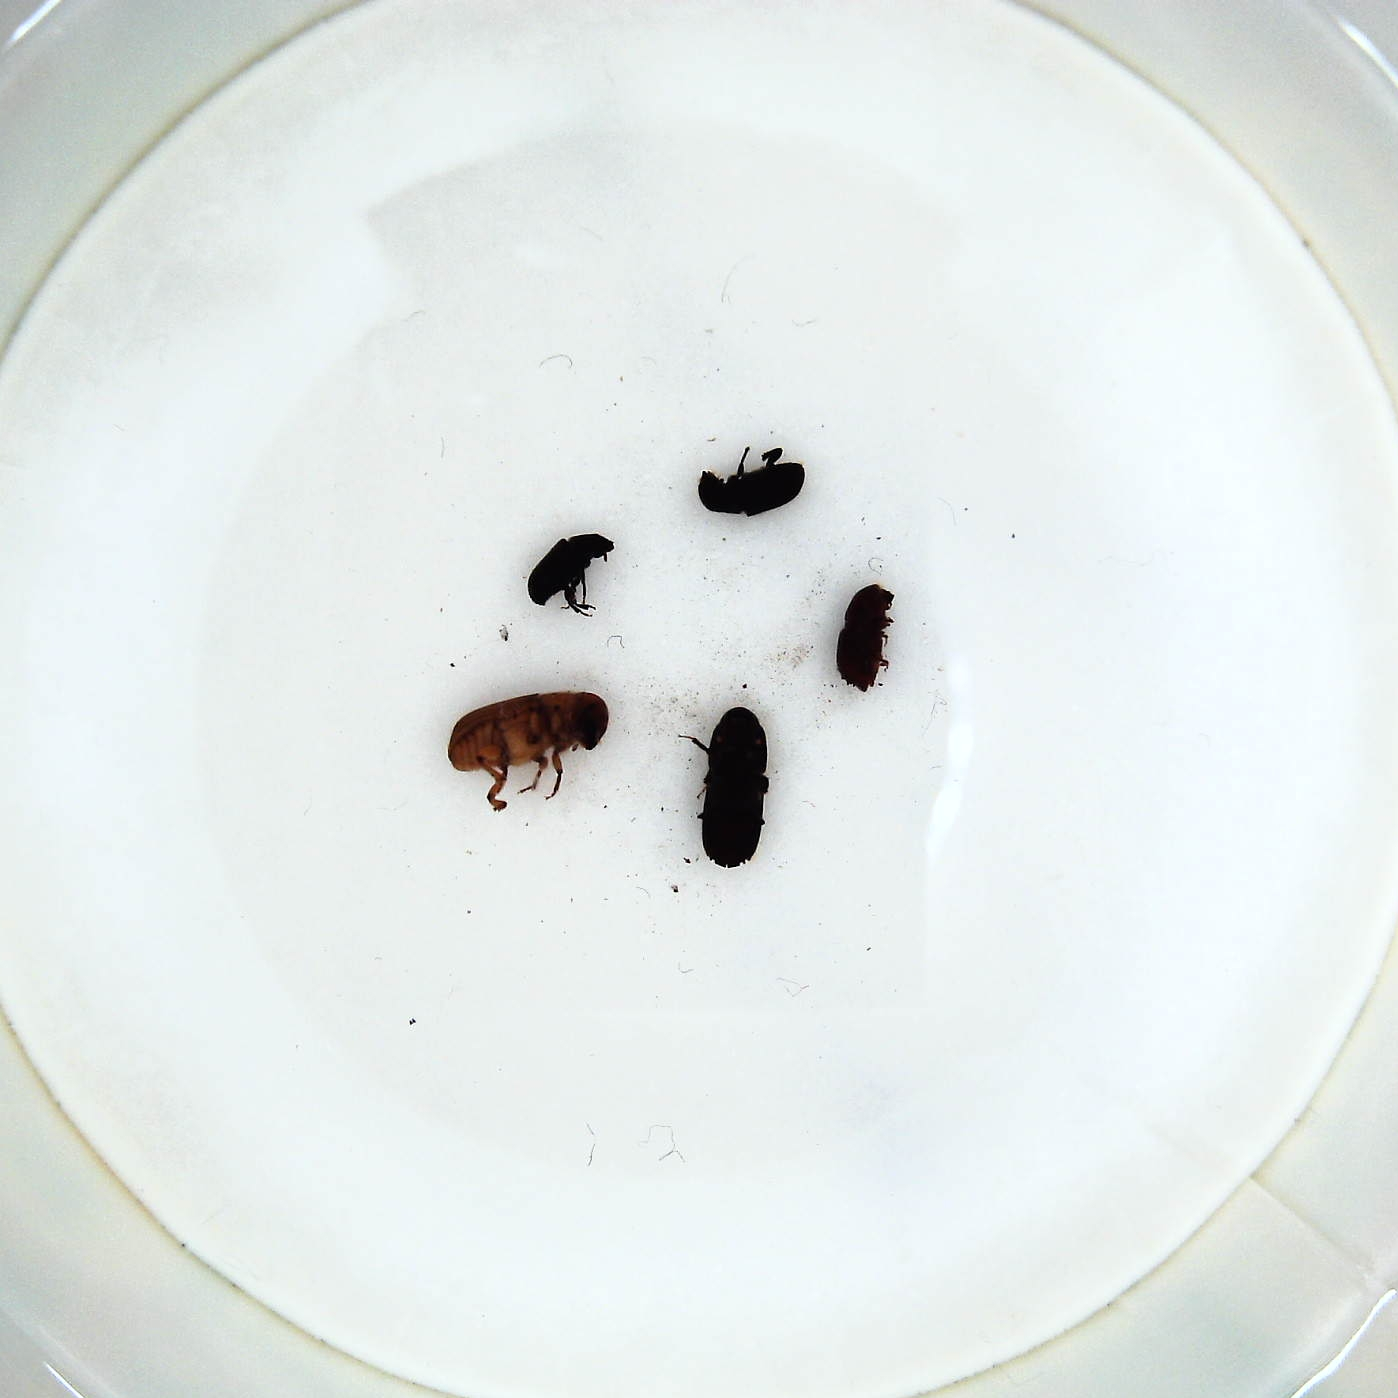Boerner: (675, 702, 782, 873)
Leconte: (443, 687, 616, 817)
armandi: (693, 446, 814, 522)
coleoptera: (524, 529, 621, 623)
linnaeus: (833, 580, 906, 696)
